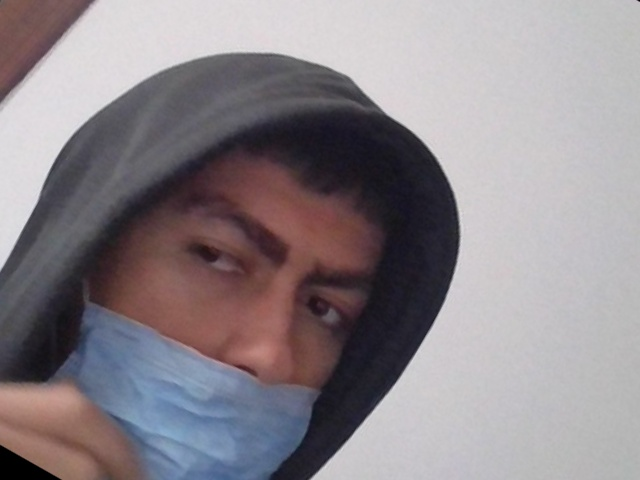mask_weared_incorrect: (99, 126, 389, 479)
